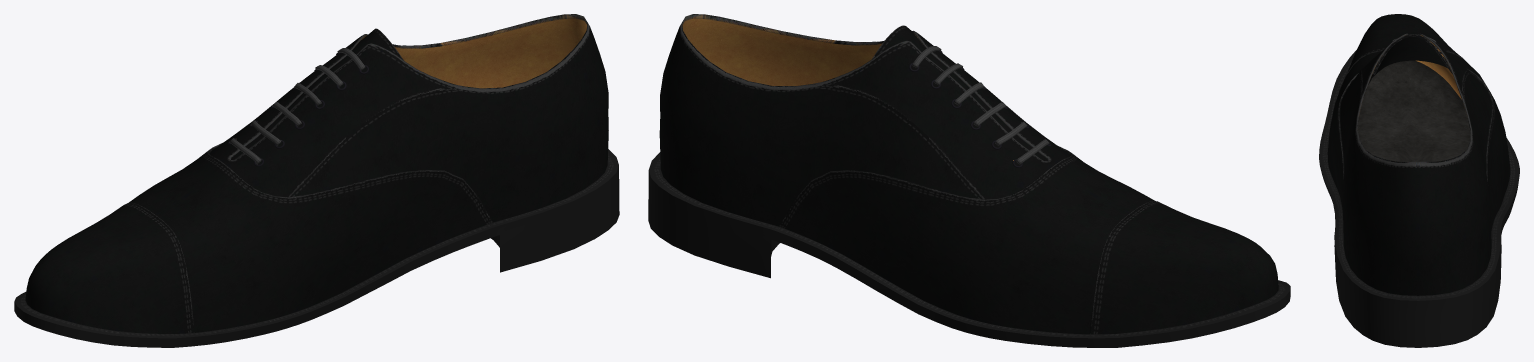
File: sapato social de couro preto.glb
3 views of the same model, side by side, from view 1: azimuth 30°, elevation 25°; view 2: azimuth 150°, elevation 25°; view 3: azimuth 270°, elevation 25° (orthographic). The views are drawn at different scales.
Parts seen in each view (by area): view 1: Plane, Plane.001; view 2: Plane, Plane.001; view 3: Plane, Plane.001.
Boxes of the visible parts, box(x1,y1,x2,y2) form: Plane: box(14, 14, 619, 347); Plane.001: box(231, 28, 403, 164); Plane: box(648, 14, 1290, 347); Plane.001: box(872, 25, 1047, 165); Plane: box(1319, 14, 1519, 347); Plane.001: box(1368, 34, 1452, 84).
Size of the model in its own units: 443 by 163 by 139.
2 materials, 2 textured.
